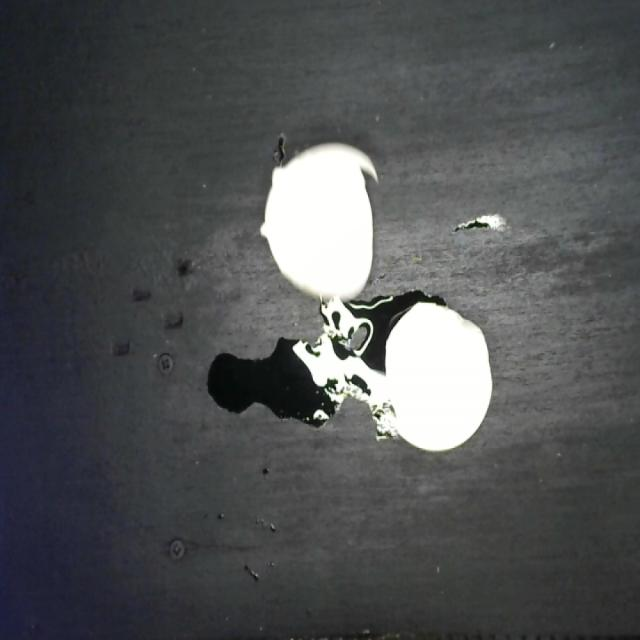biodegradable: (256, 140, 493, 459)
